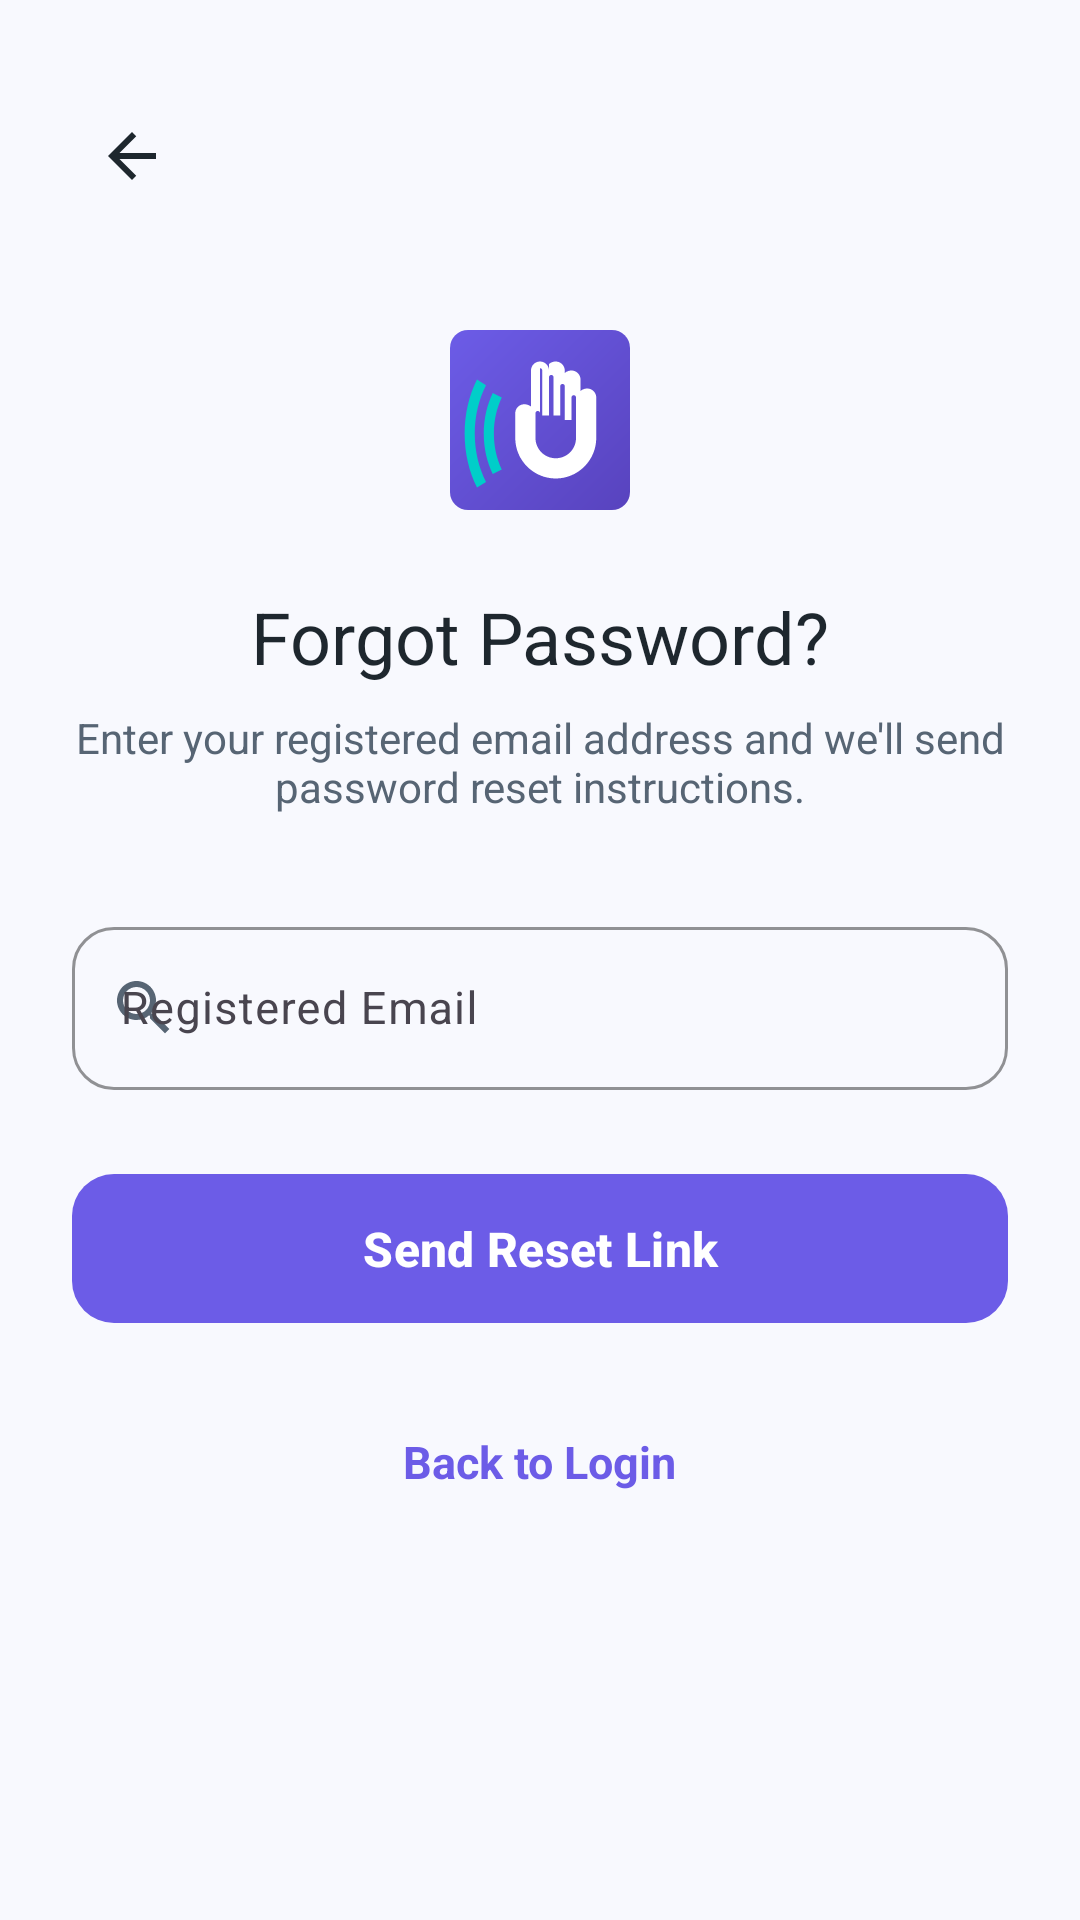

Icon bounding boxes for this 1080×1920 phone screenshot, format (x1, y1, x2, y2):
Back: (108, 132, 156, 180)
